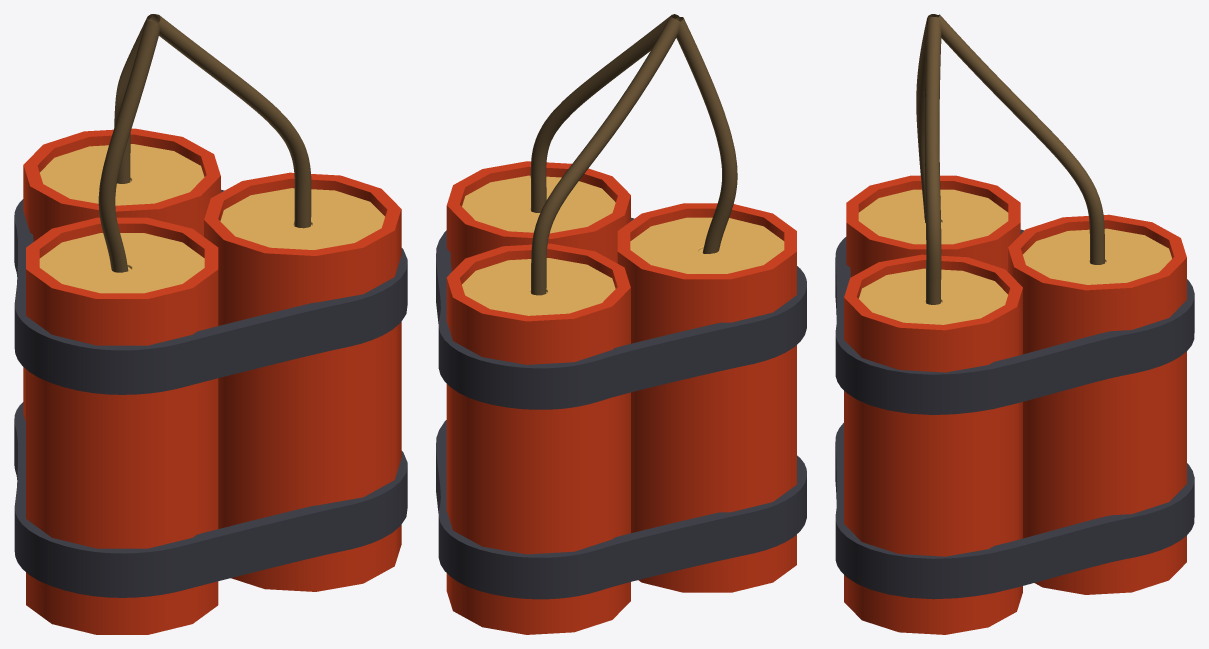
The model's file is tnt.fbx.
The picture shows the model from 3 angles, left to right: view 1: azimuth 30°, elevation 25°; view 2: azimuth 150°, elevation 25°; view 3: azimuth 270°, elevation 25°; orthographic projection. The views are drawn at different scales.
Visible parts, largest first — view 1: Plano; view 2: Plano; view 3: Plano.
Part boxes in pixels (x1,y1,x2,y2): Plano: (14,14,407,634); Plano: (436,14,806,634); Plano: (835,14,1194,634).
Bounding box in the file's own units: 403 × 380 × 603.
